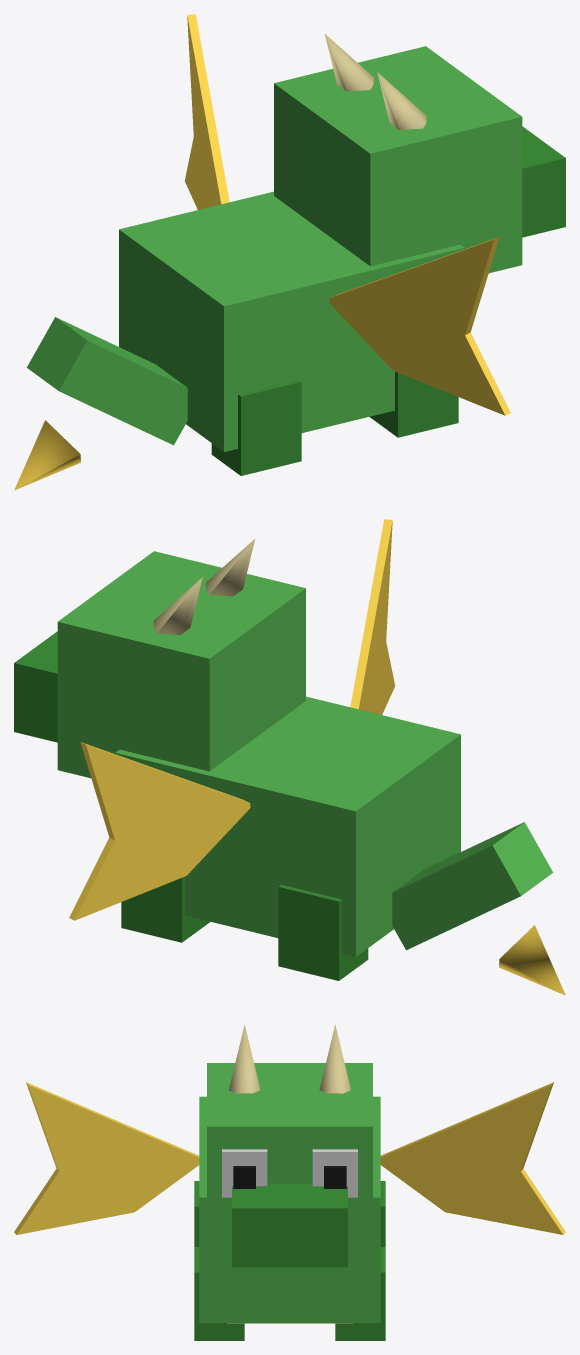
The model's file is hat_baby_dragon.glb.
The picture shows the model from 3 angles, top to bottom: view 1: azimuth 30°, elevation 25°; view 2: azimuth 150°, elevation 25°; view 3: azimuth 270°, elevation 25°; orthographic projection. The views are drawn at different scales.
Visible parts, largest first — view 1: Hat; view 2: Hat; view 3: Hat.
Boxes of the visible parts, x1,y1,x2,y2 form: Hat: (14,14,565,490); Hat: (14,519,565,995); Hat: (14,1025,565,1340).
Bounding box in the file's own units: 0.6141 × 0.403 × 0.658.
